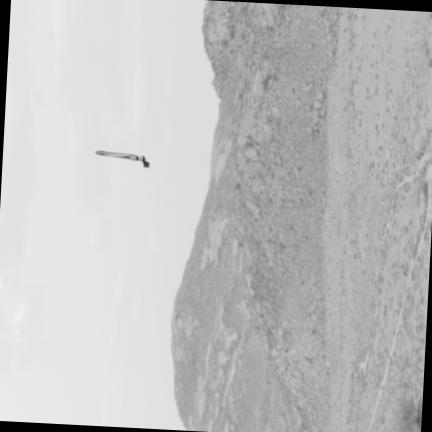Shahed: (96, 151, 149, 166)
